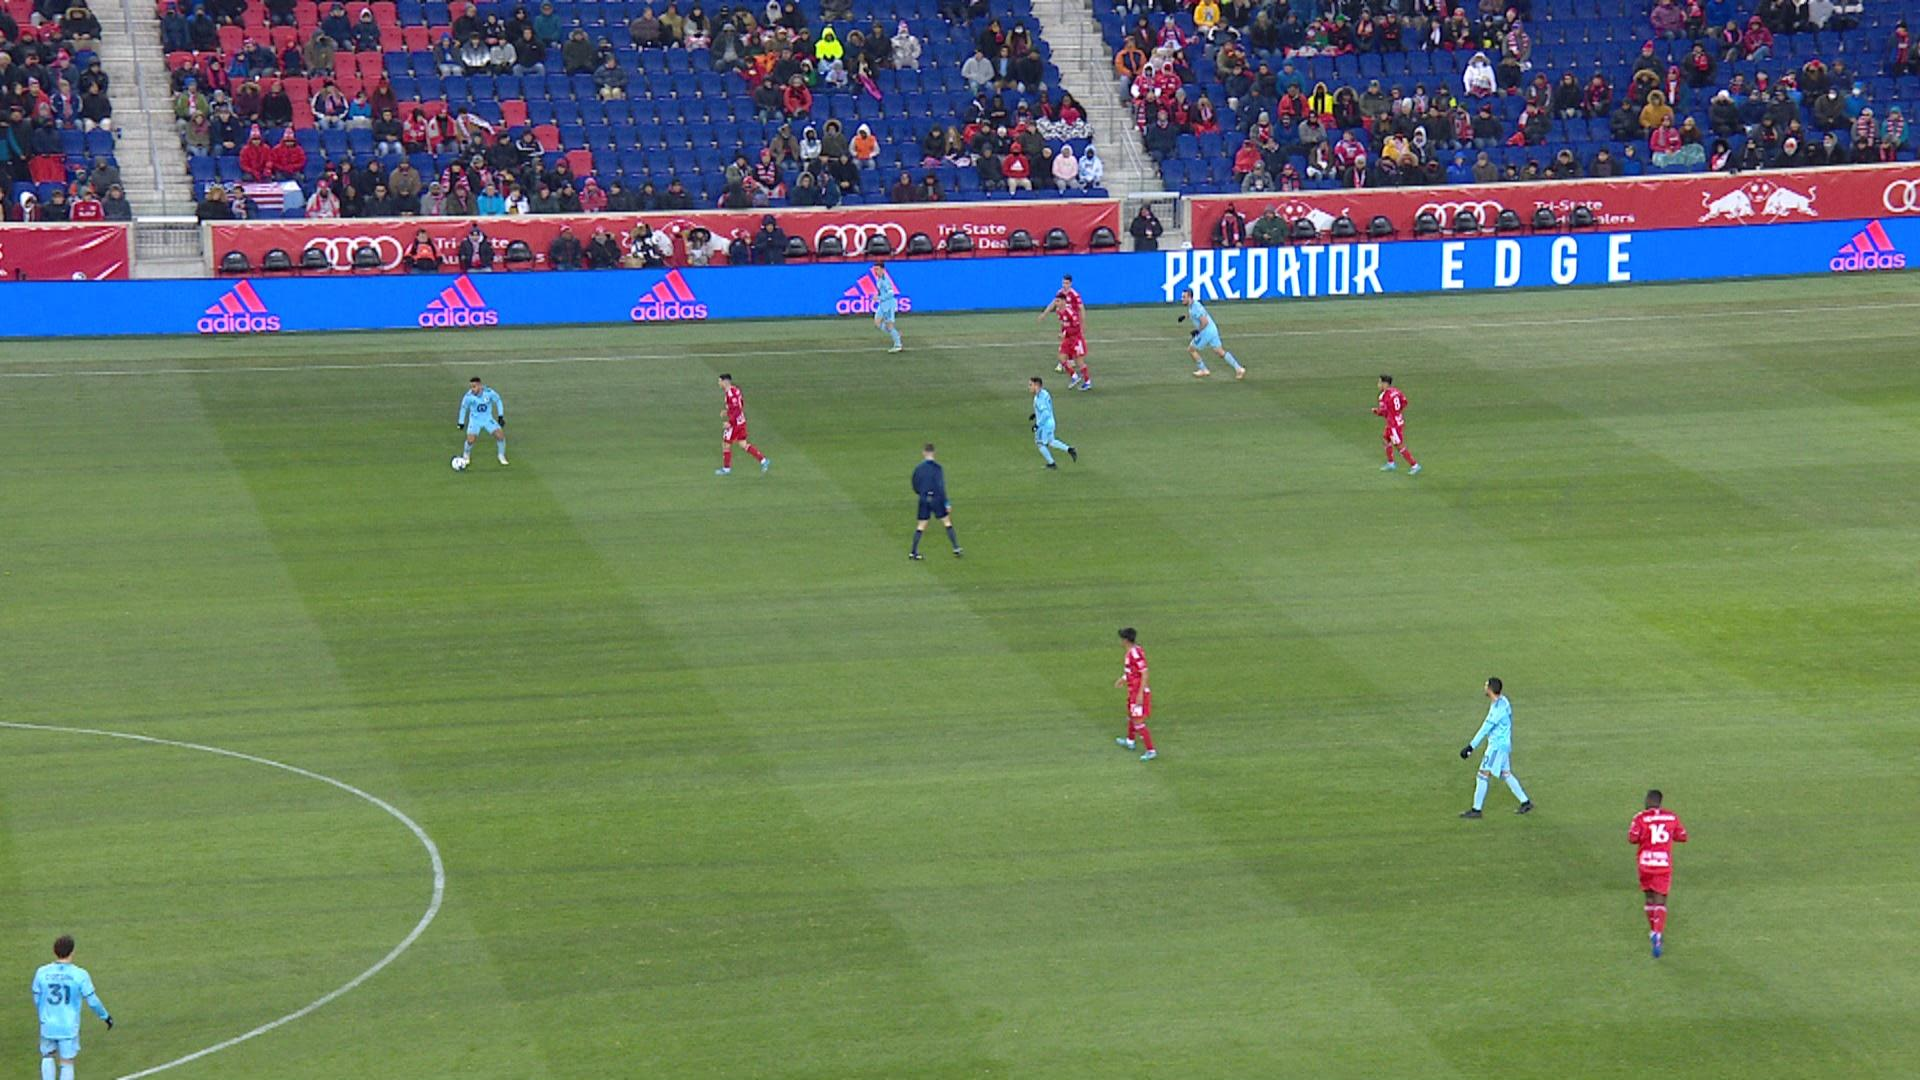football: (451, 455, 467, 472)
